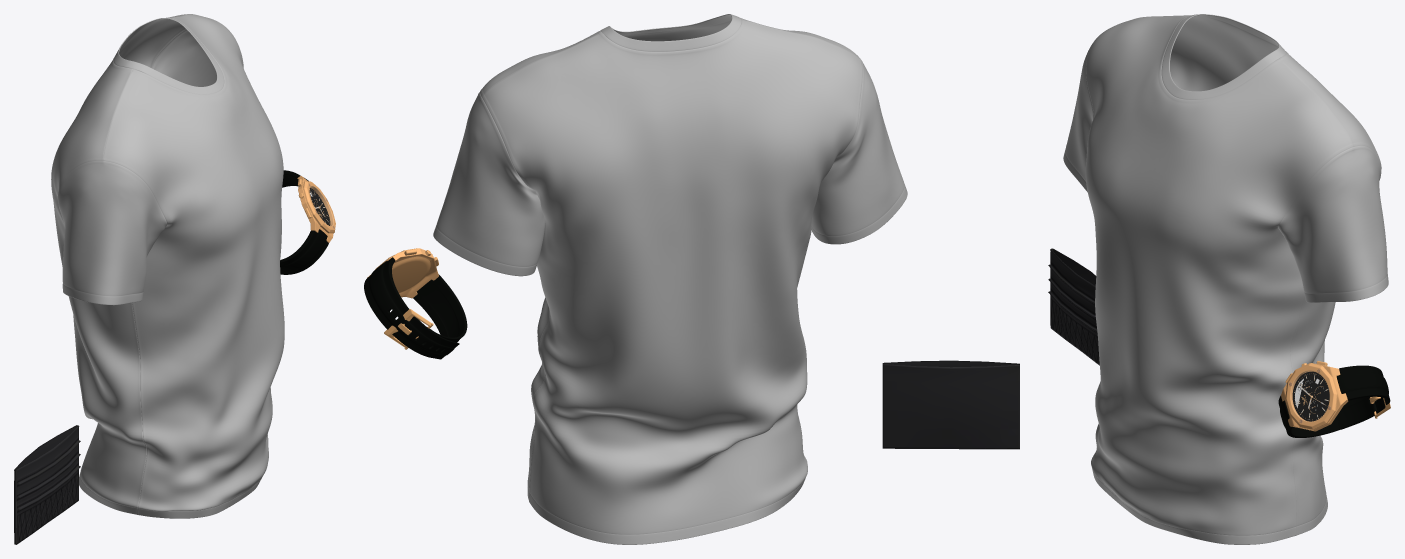
File: m_fashion-transformed.glb
The picture shows the model from 3 angles, left to right: view 1: azimuth 30°, elevation 25°; view 2: azimuth 150°, elevation 25°; view 3: azimuth 270°, elevation 25°; orthographic projection. The views are drawn at different scales.
Visible parts, largest first — view 1: T_Shirt_male, Object_2, Object_6; view 2: T_Shirt_male, Object_2, Object_6; view 3: T_Shirt_male, Object_6, Object_2.
Part boxes in pixels (x1=…): T_Shirt_male: x1=51, y1=14, x2=284, y2=518; Object_2: x1=14, y1=425, x2=80, y2=544; Object_6: x1=280, y1=170, x2=335, y2=274; T_Shirt_male: x1=433, y1=14, x2=907, y2=544; Object_2: x1=882, y1=360, x2=1019, y2=449; Object_6: x1=364, y1=248, x2=467, y2=359; T_Shirt_male: x1=1063, y1=14, x2=1388, y2=544; Object_6: x1=1278, y1=361, x2=1390, y2=437; Object_2: x1=1048, y1=248, x2=1099, y2=365.
Size of the model in its own units: 3.31 by 3.06 by 2.08.
5 materials, 3 textured.
